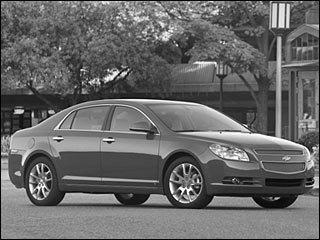car: (9, 101, 316, 212)
